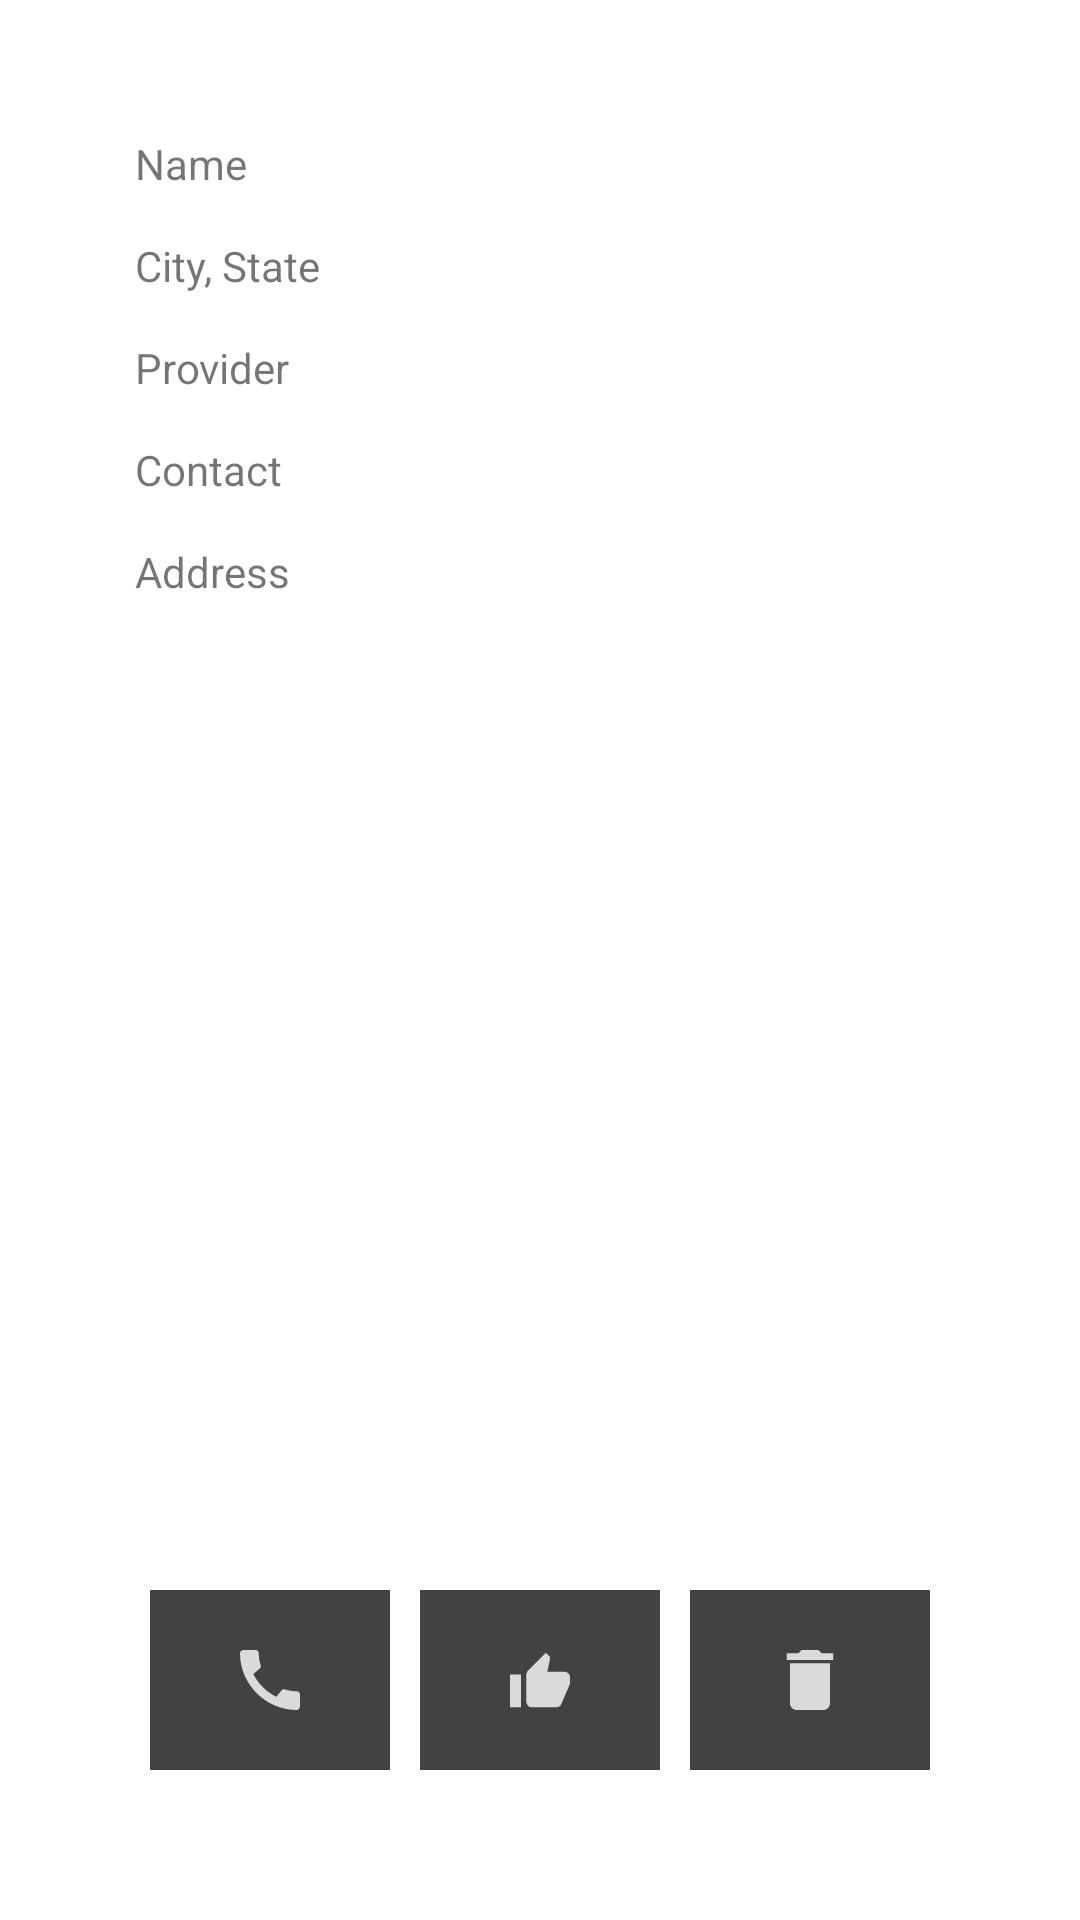

Where icons sit on this 1080×1920 app screen, as (x1, y1, x2, y2):
call: (150, 1590, 390, 1770)
delete: (690, 1590, 930, 1770)
verify: (420, 1590, 660, 1770)
